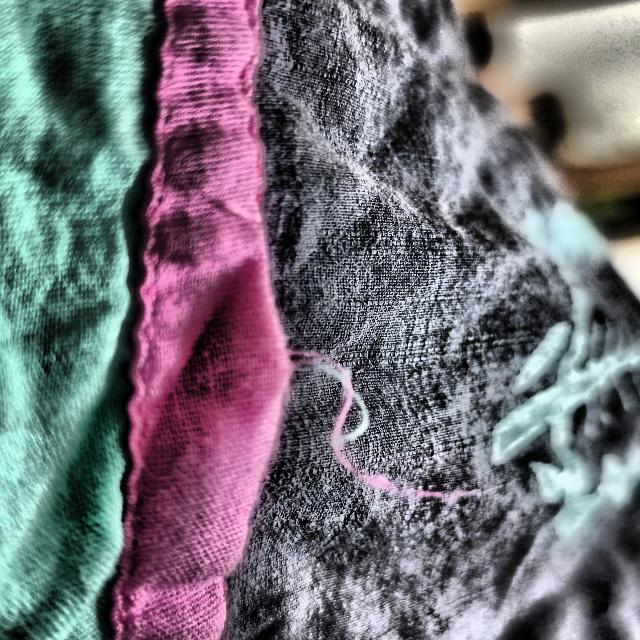Stitch: (233, 285, 509, 609)
